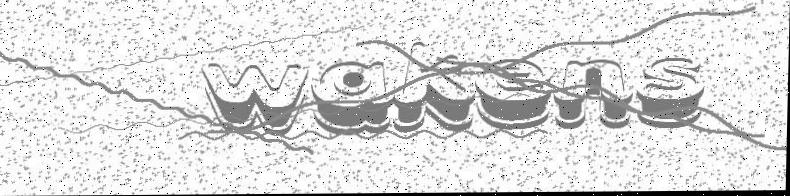a: (313, 59, 395, 135)
e: (476, 56, 558, 134)
k: (396, 37, 478, 138)
n: (556, 55, 639, 136)
s: (636, 57, 710, 134)
w: (196, 61, 312, 136)
